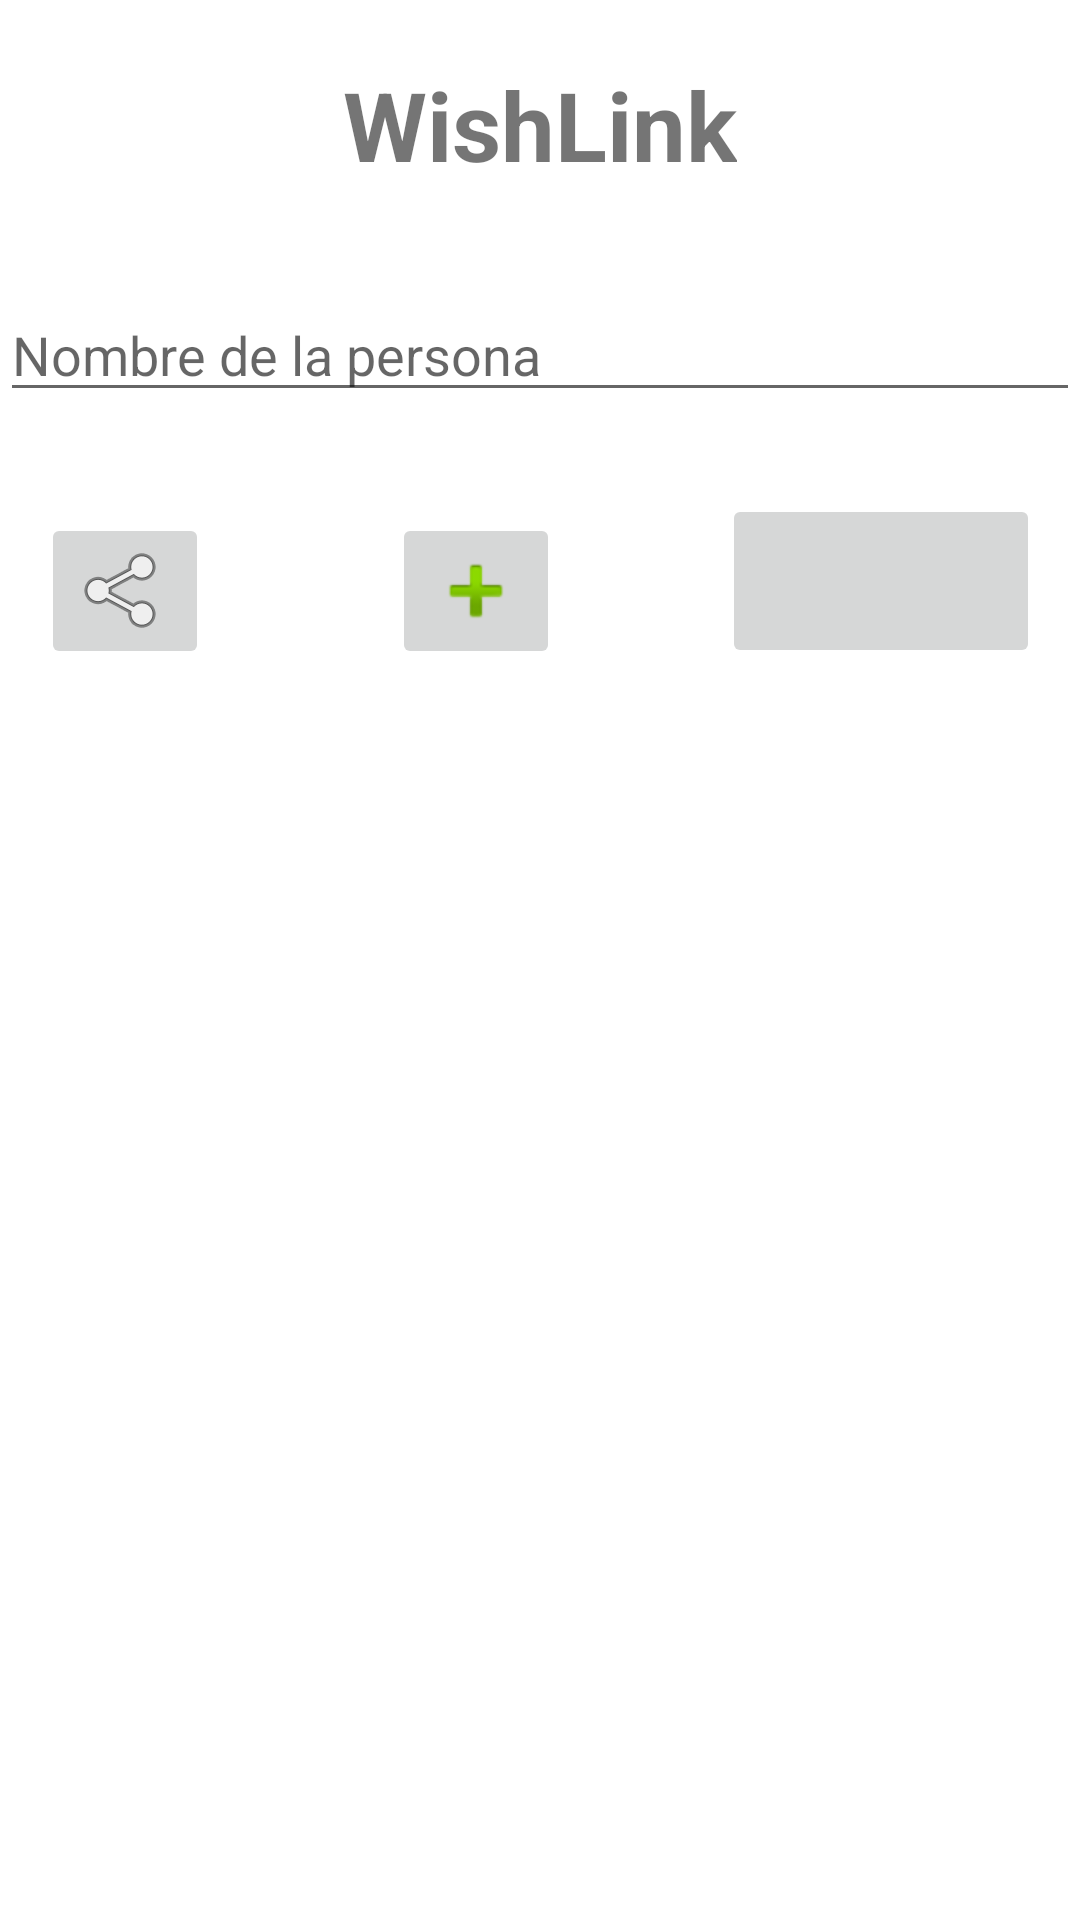

Icon click points for this 1080 × 1920 phone screenshot, format (x=x, y=y):
add: (x=476, y=591)
share: (x=125, y=591)
